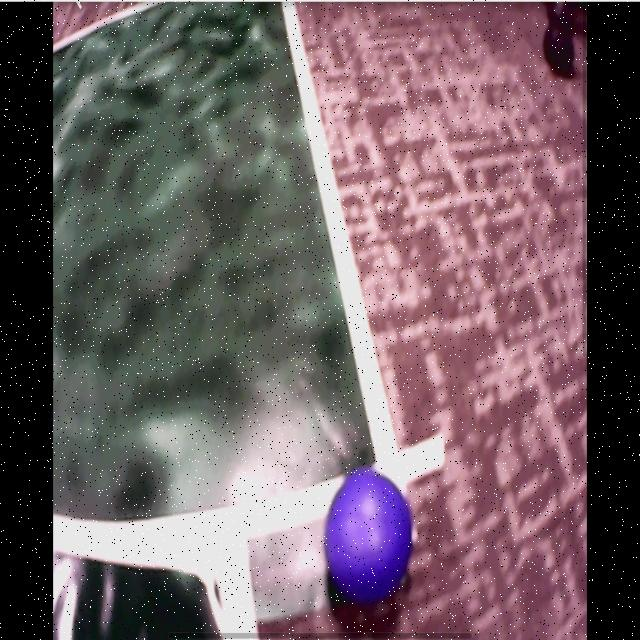ball: (326, 470, 413, 600)
